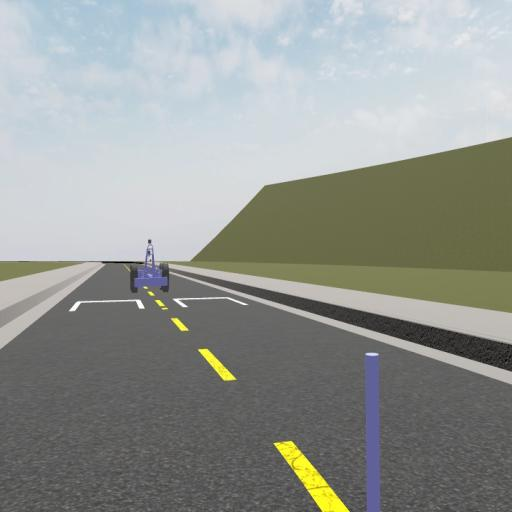ERP-42: (130, 240, 171, 292)
